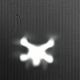plane: (13, 34, 63, 70)
